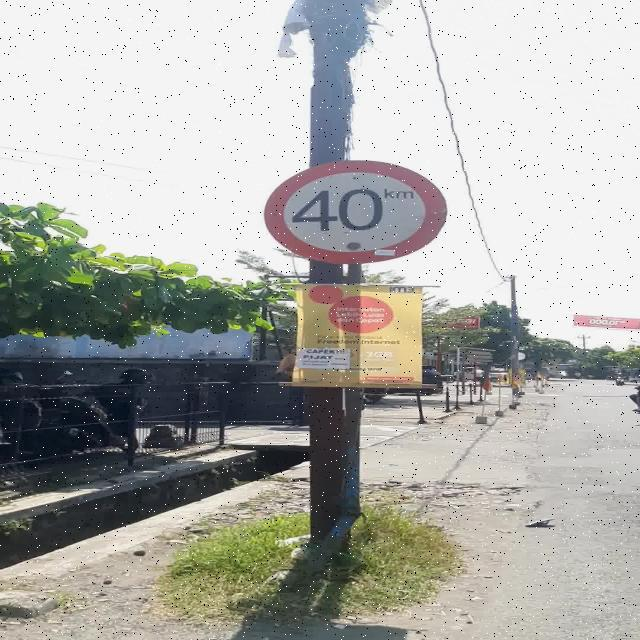Kecepatan Maks. 40 km: (263, 160, 448, 264)
